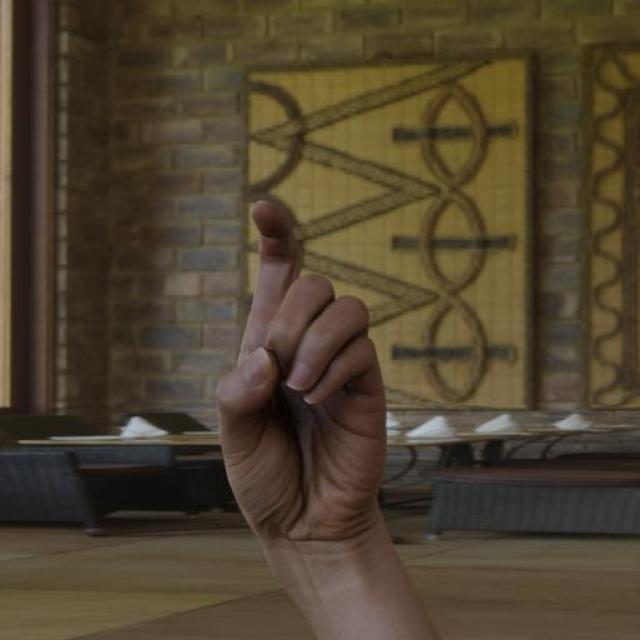X: (198, 184, 410, 590)
